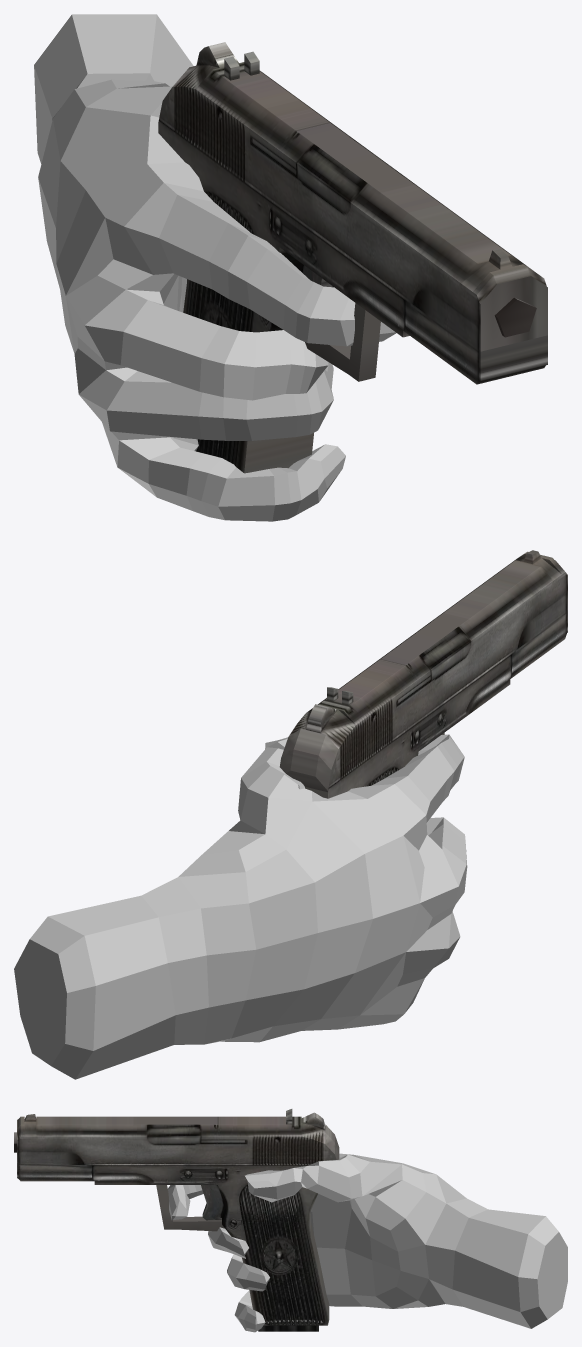
The model's file is RiggedLowpolyHand.obj.
3 renders of one model, top to bottom at view 1: azimuth 30°, elevation 25°; view 2: azimuth 150°, elevation 25°; view 3: azimuth 270°, elevation 25°, orthographic. The views are drawn at different scales.
Visible parts, largest first — view 1: mesh, slide, gun, barrel; view 2: mesh, slide, gun; view 3: mesh, gun, slide, mag.
Part boxes in pixels (<box>): mesh: <box>34,14,396,521</box>; slide: <box>158,42,547,352</box>; gun: <box>158,125,547,473</box>; barrel: <box>494,297,536,337</box>; mesh: <box>14,734,467,1079</box>; slide: <box>279,550,567,792</box>; gun: <box>305,611,567,798</box>; mesh: <box>168,1153,567,1332</box>; gun: <box>17,1163,329,1325</box>; slide: <box>17,1109,339,1165</box>; mag: <box>258,1325,318,1331</box>.
Bounding box in the file's own units: 5.74 × 6.76 × 15.76.
Materials: 2 (1 with a texture image).
